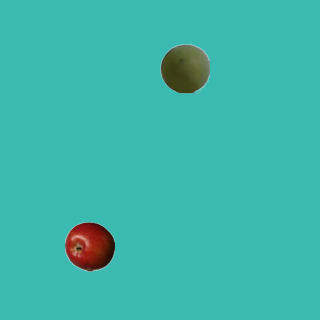Apple Braeburn: (64, 221, 114, 271)
Grape White 4: (159, 43, 209, 93)
